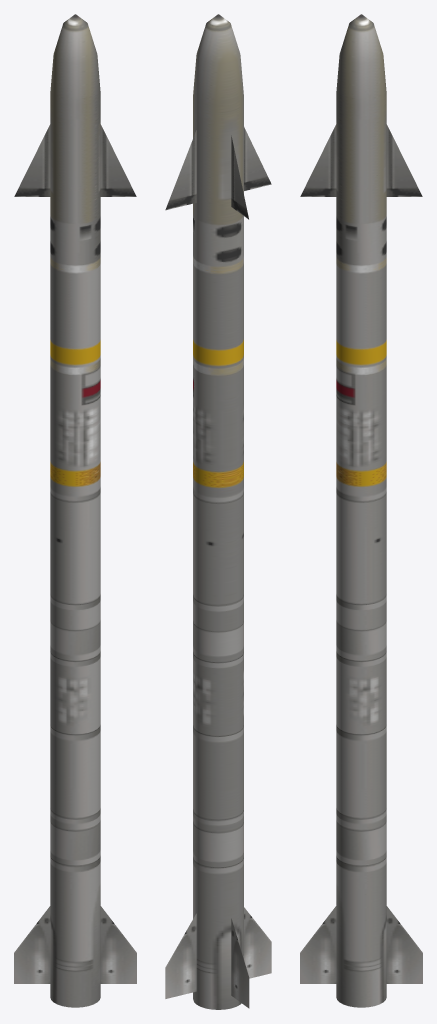
Rendered from sidewinder.fbx.
3 renders of one model, left to right at view 1: azimuth 90°, elevation 25°; view 2: azimuth 210°, elevation 25°; view 3: azimuth 270°, elevation 25°, orthographic.
Visible parts, largest first — view 1: Group3, Group2; view 2: Group3, Group2; view 3: Group3, Group2.
Boxes of the visible parts, x1,y1,x2,y2 form: Group3: [50, 14, 100, 1007]; Group2: [14, 124, 136, 983]; Group3: [193, 14, 243, 1009]; Group2: [165, 127, 271, 1008]; Group3: [336, 14, 386, 1007]; Group2: [300, 124, 422, 983].
Bounding box in the file's own units: 0.3946 × 3.49 × 0.3946.
